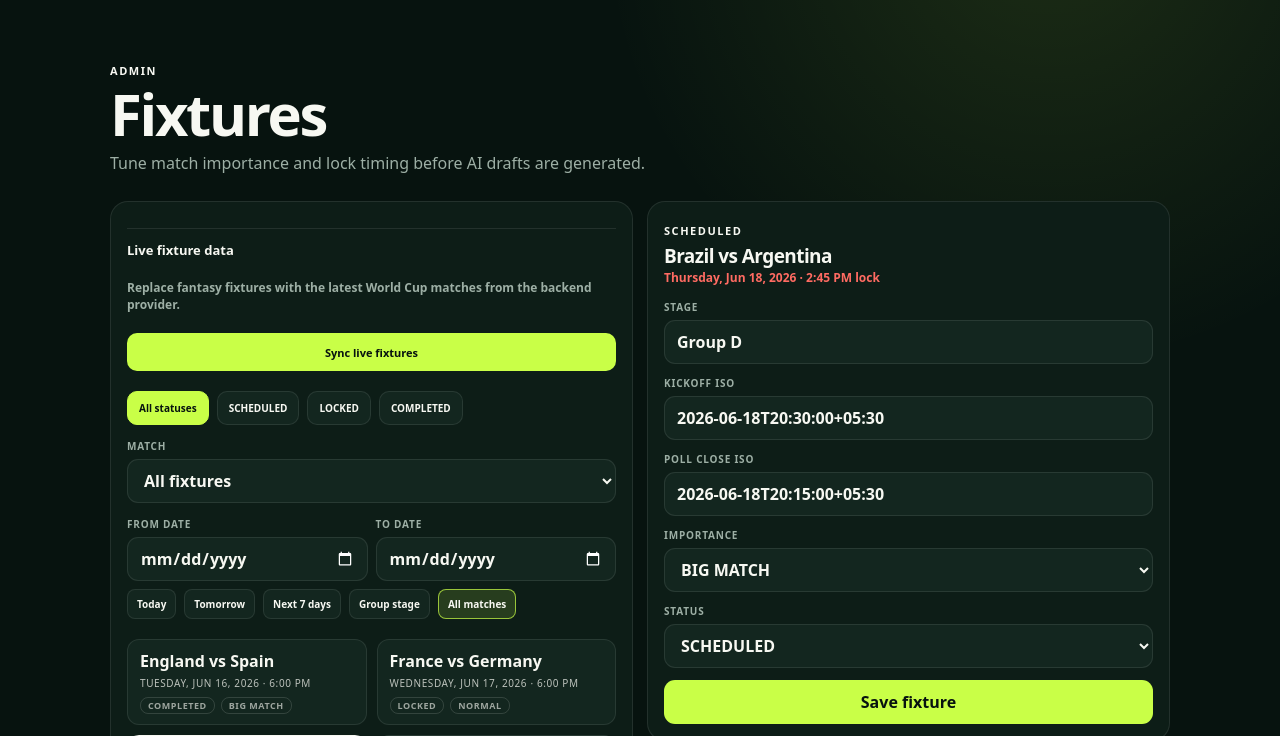
fantasy prediction game › renders fixture administration with status and match filters
The width and height of the screenshot is (1280, 736).
Expected: the heading "Fixtures" is shown, [110,74,326,153]
Click the button "COMPLETED".
click(421, 408)  # box [379,391,463,425]
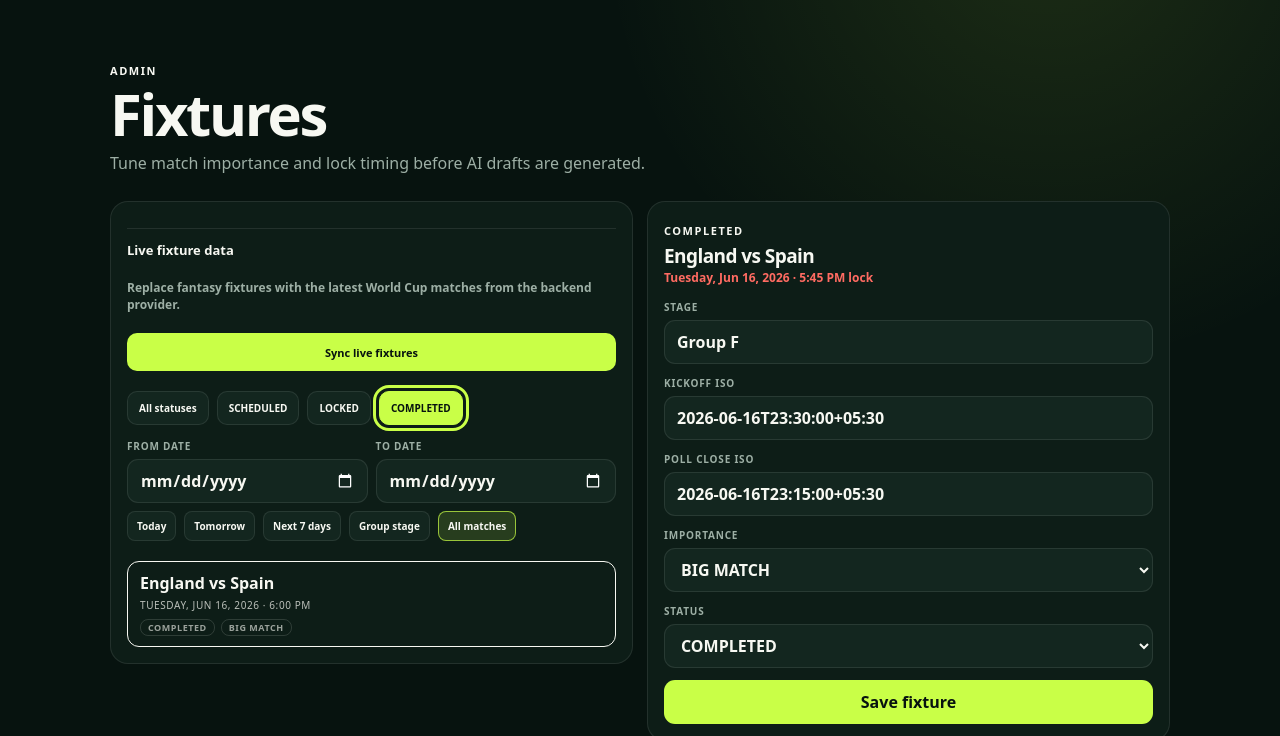
Expected: the button "England vs Spain" is shown, [127,561,616,647]
Click the button "SCHEDULED".
click(258, 408)  # box [217,391,300,425]
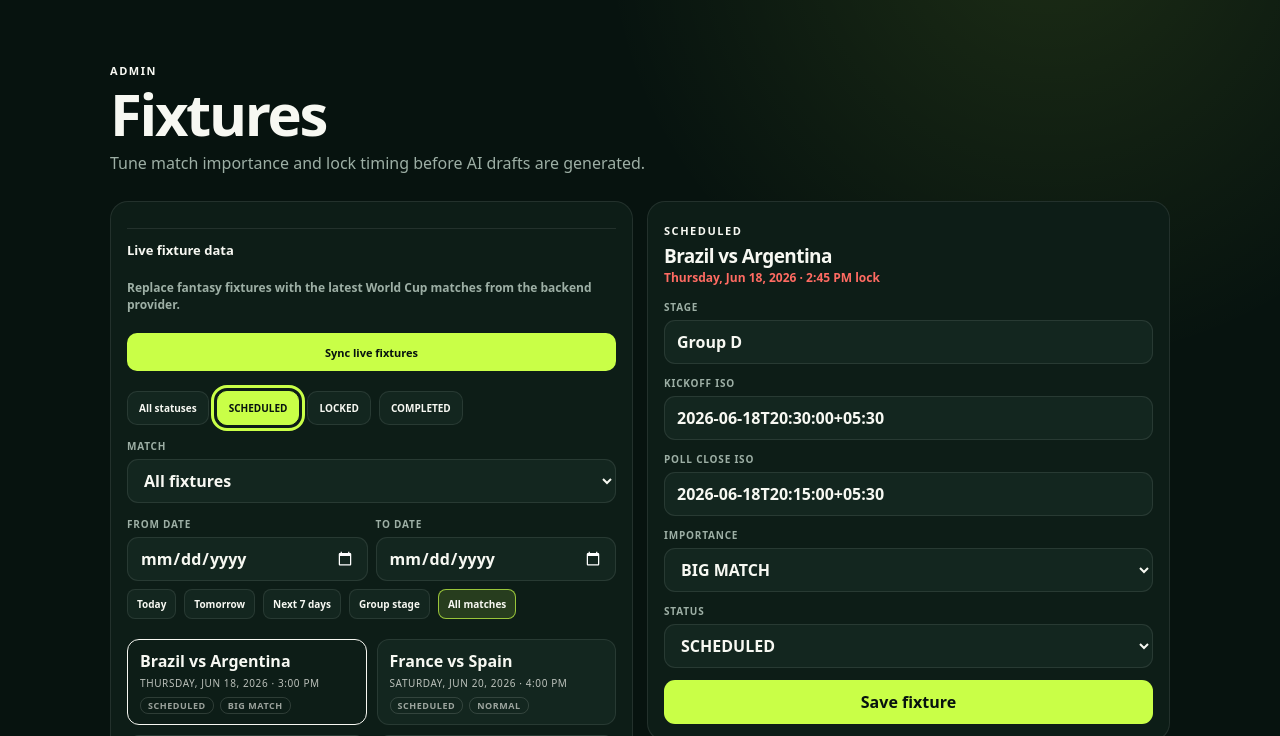
Expected: the button "Save fixture" is shown, [664,680,1153,724]
Expected: the button "Brazil vs Argentina" is shown, [127,639,366,725]
Expected: the button "England vs Spain" is gone
